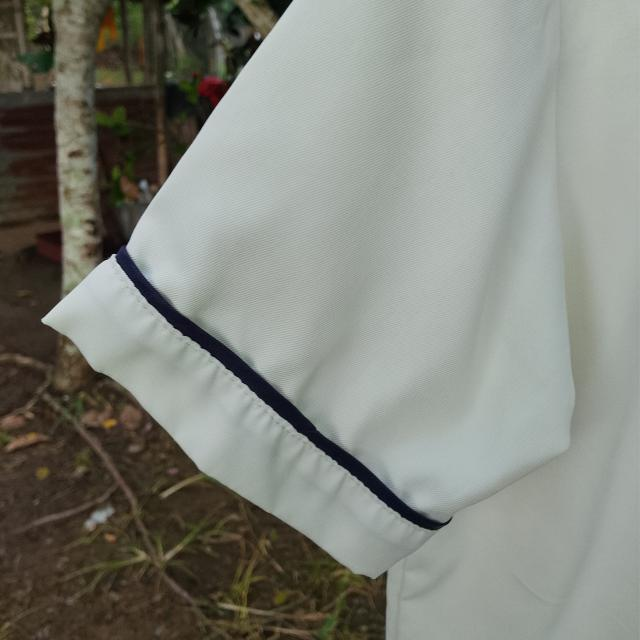education_male_uniform: (40, 11, 640, 604)
